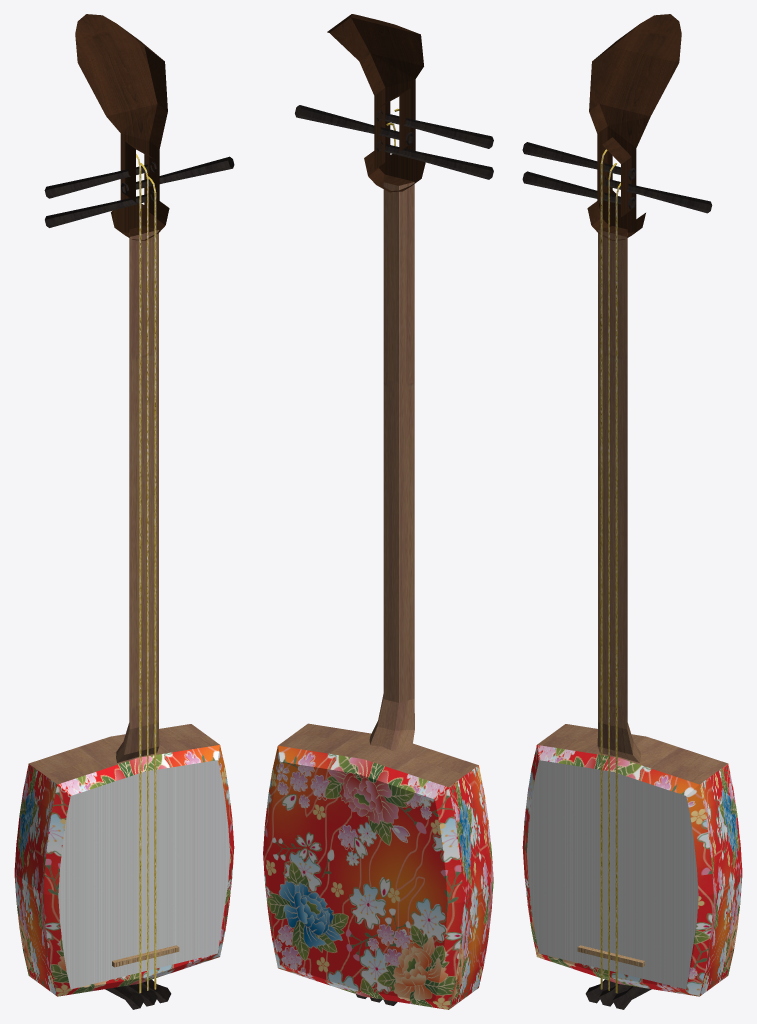
Rendered from HorseheadFiddleCharm.fbx.
The picture shows the model from 3 angles, left to right: view 1: azimuth 30°, elevation 25°; view 2: azimuth 150°, elevation 25°; view 3: azimuth 330°, elevation 25°; orthographic projection. The views are drawn at different scales.
Visible parts, largest first — view 1: GOD; view 2: GOD; view 3: GOD.
Part boxes in pixels (x1,y1,x2,y2): GOD: (14,14,234,1009); GOD: (263,14,493,1009); GOD: (522,14,742,1009).
Size of the model in its own units: 5.07 by 23.98 by 2.94.
7 materials, 7 textured.
